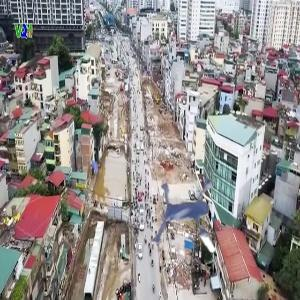drone: (131, 164, 249, 282)
